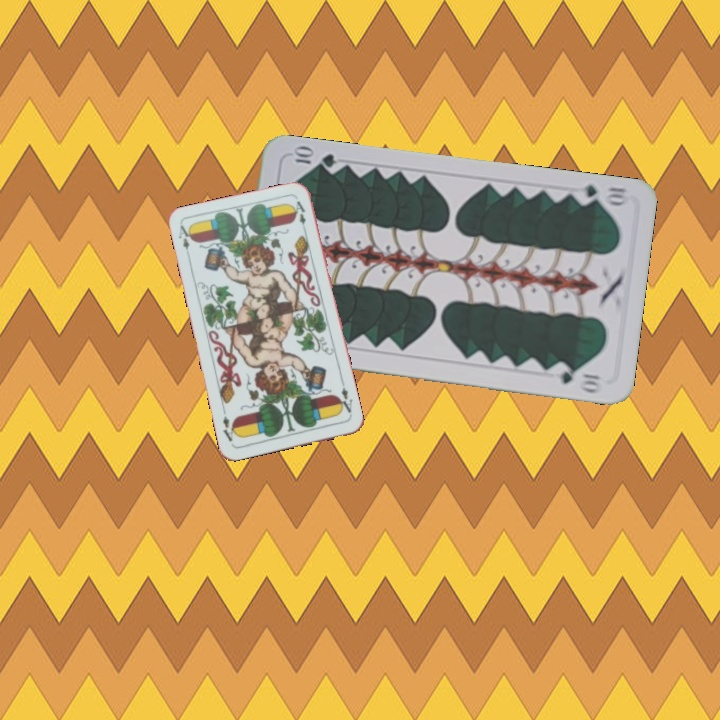EA: (175, 221, 195, 261), (334, 383, 355, 418)
G10: (571, 180, 631, 209)
